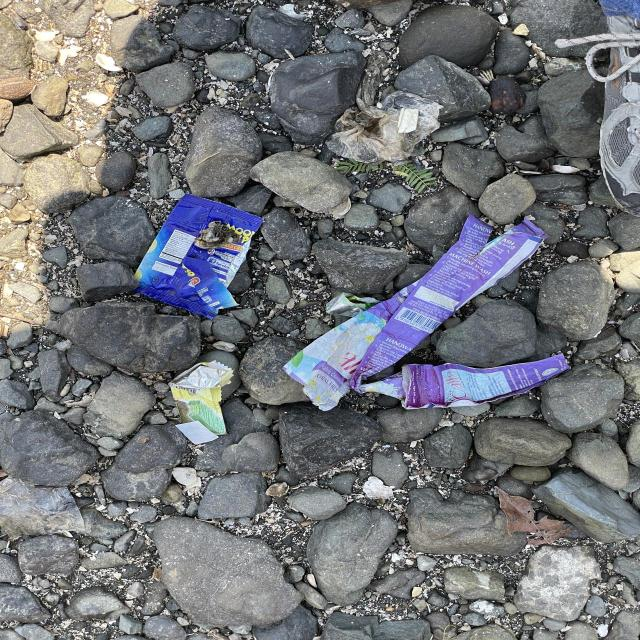plastic_waste: (284, 212, 570, 408), (129, 194, 261, 321), (169, 359, 237, 443)
